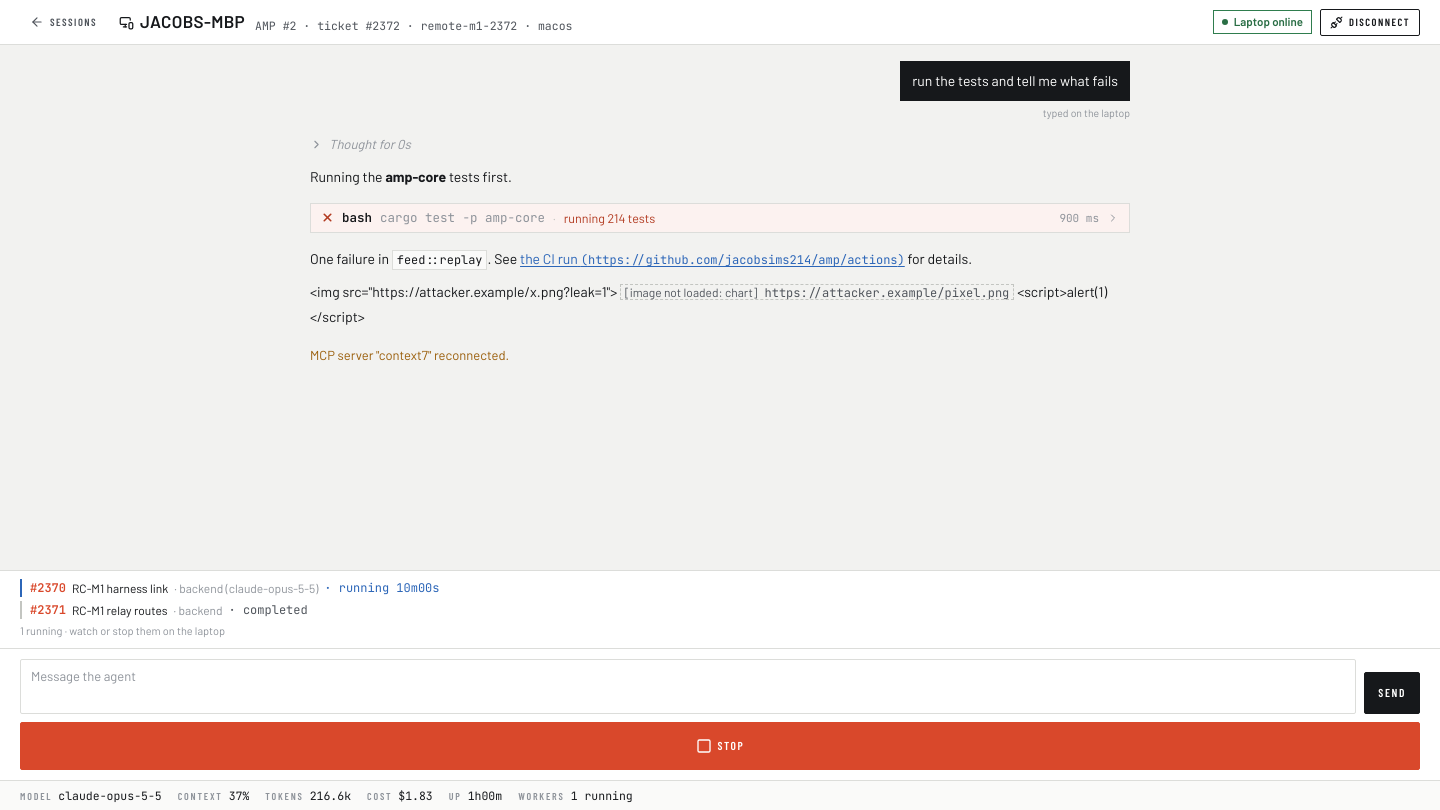
Scenario: Session page › a relay refusal (409 harness_offline) shows on the message, never queued
Expected: the text "Laptop online" is shown, x1=1213 y1=10 x2=1312 y2=34
In the text box labelled "Message": (688, 686) x1=20 y1=659 x2=1356 y2=714, type "hello?"
Then press Enter
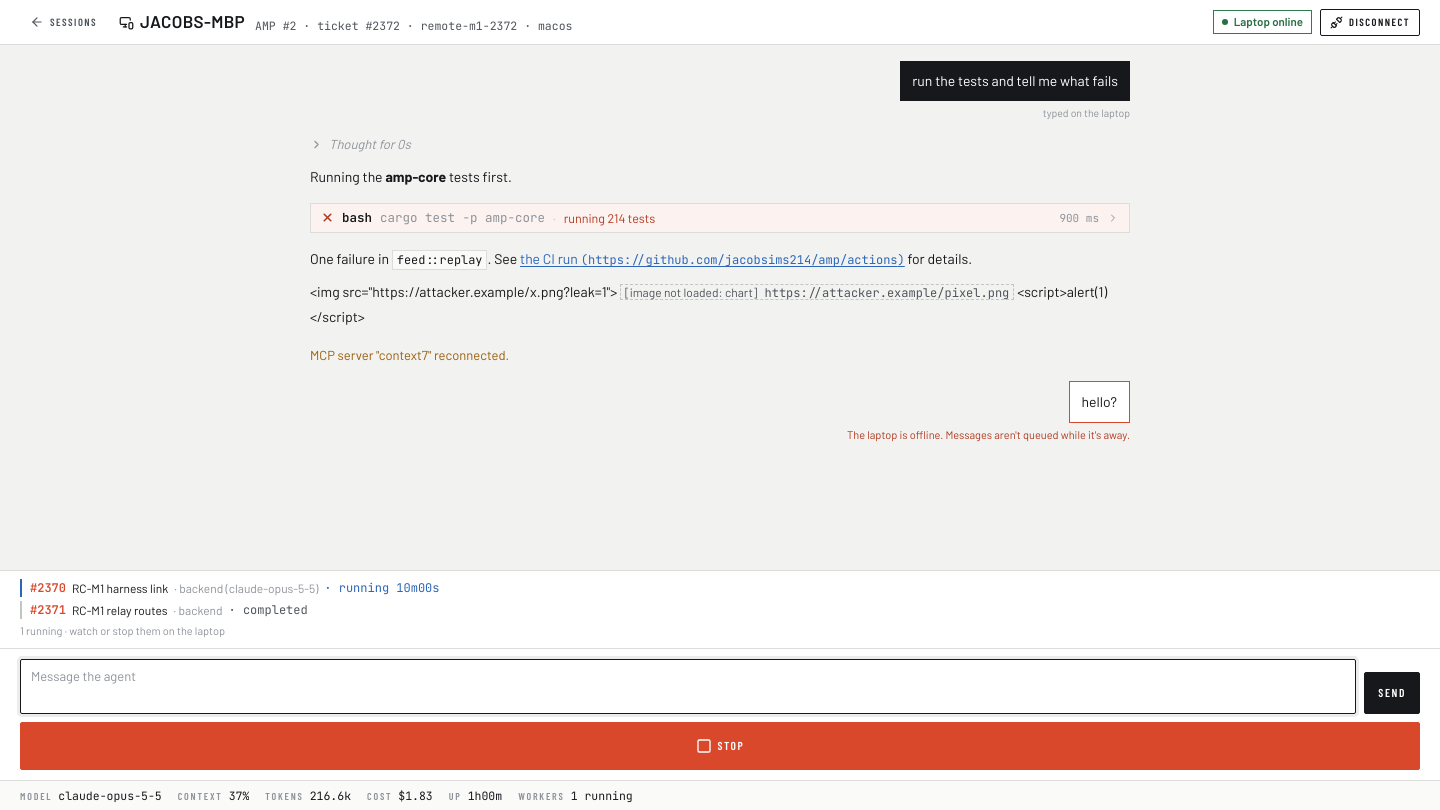
Now the text "The laptop is offline" is shown, box x1=847 y1=428 x2=1130 y2=441
